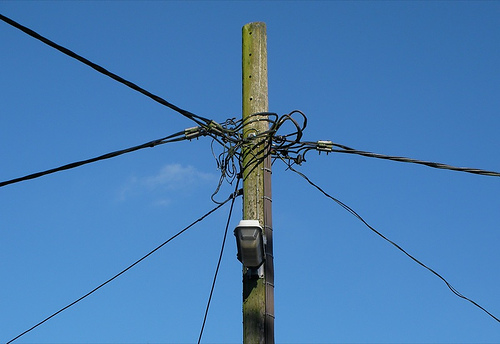pole: (197, 18, 326, 338)
